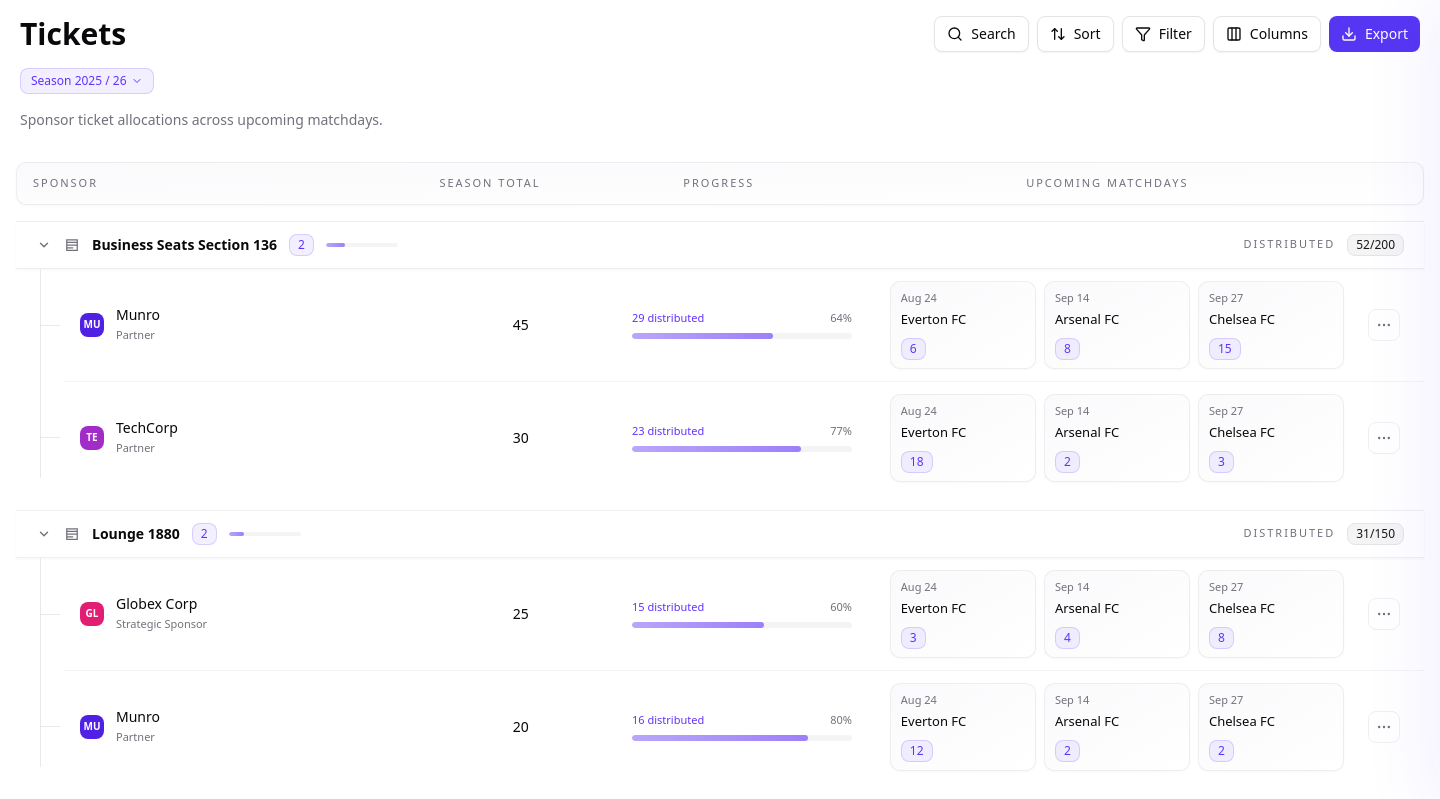
Test: TicketingWehaveioV2Screen › filters sponsors by search term
This screenshot has width=1440, height=799.
Click the button "Search" at point(981, 34), box [934,16,1029,52]
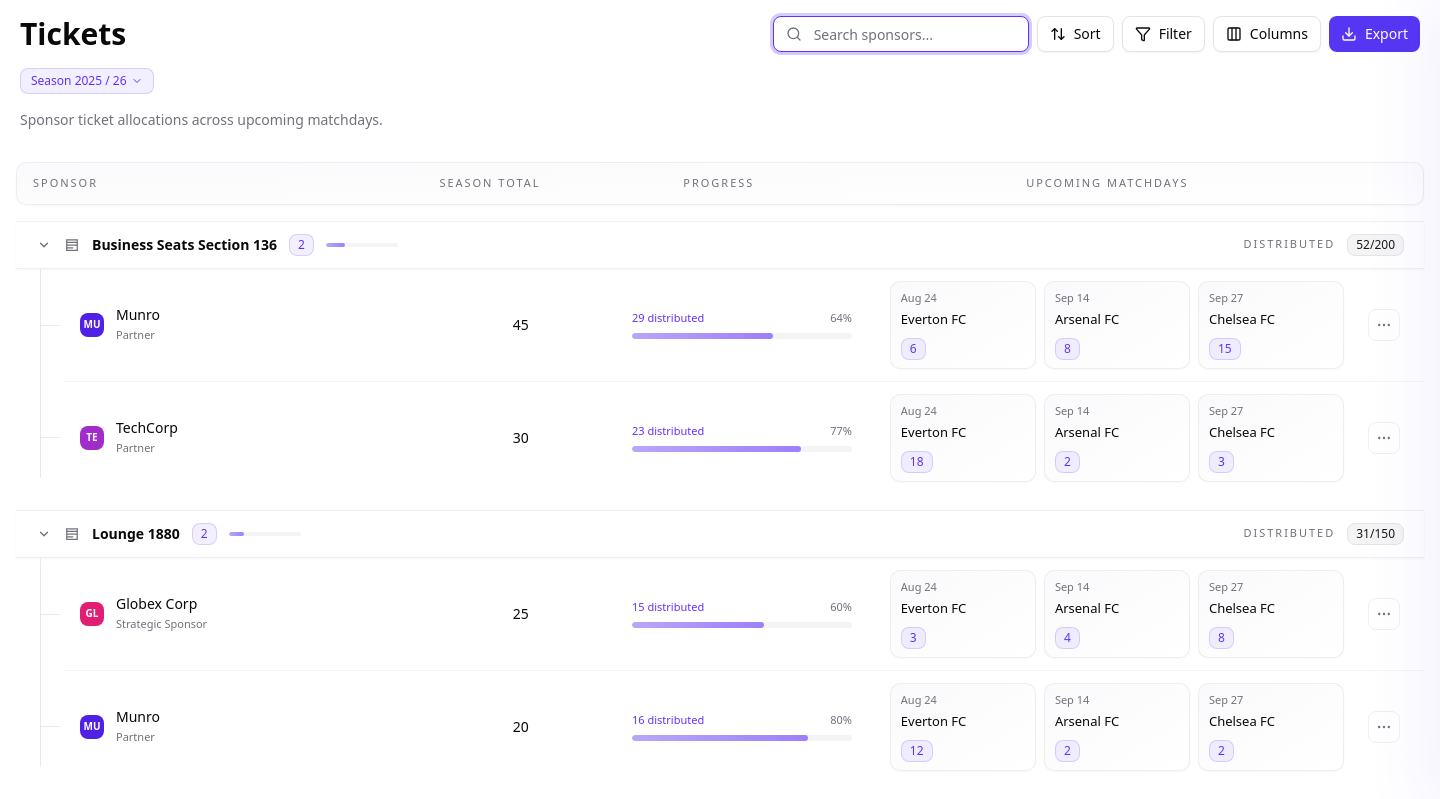
Type "Globex" into the field with placeholder "Search sponsors..." at point(901, 34), box [786,25,1016,43]
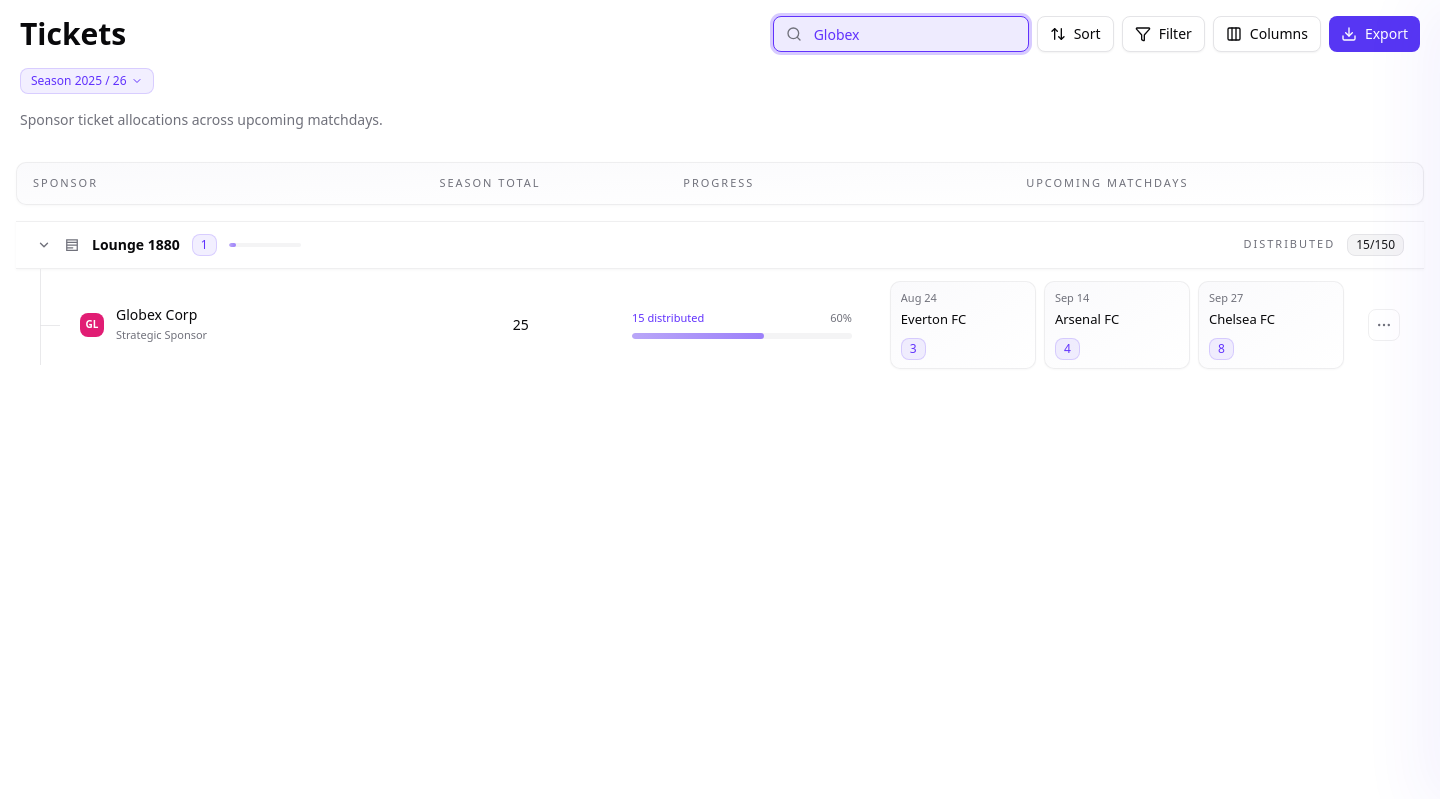
Expected: the text "Globex Corp" is shown, [116,305,207,325]
Result: the text "TechCorp" is not shown
